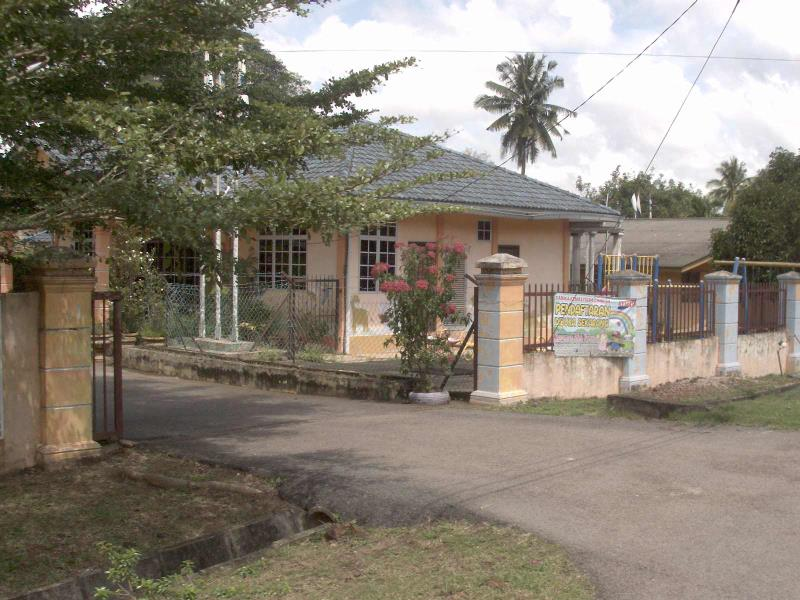ads_sign: (541, 286, 657, 369)
